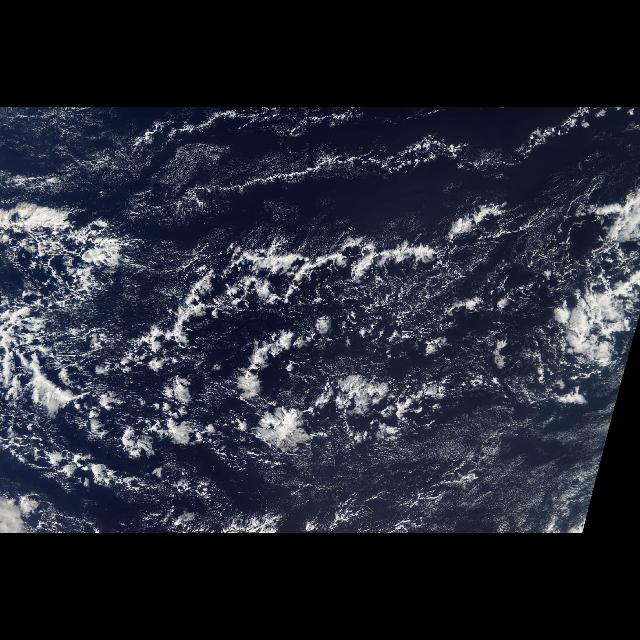Fish: (168, 238, 464, 388)
Gravel: (2, 212, 574, 446)
Sugar: (12, 113, 474, 219), (315, 396, 619, 532)
